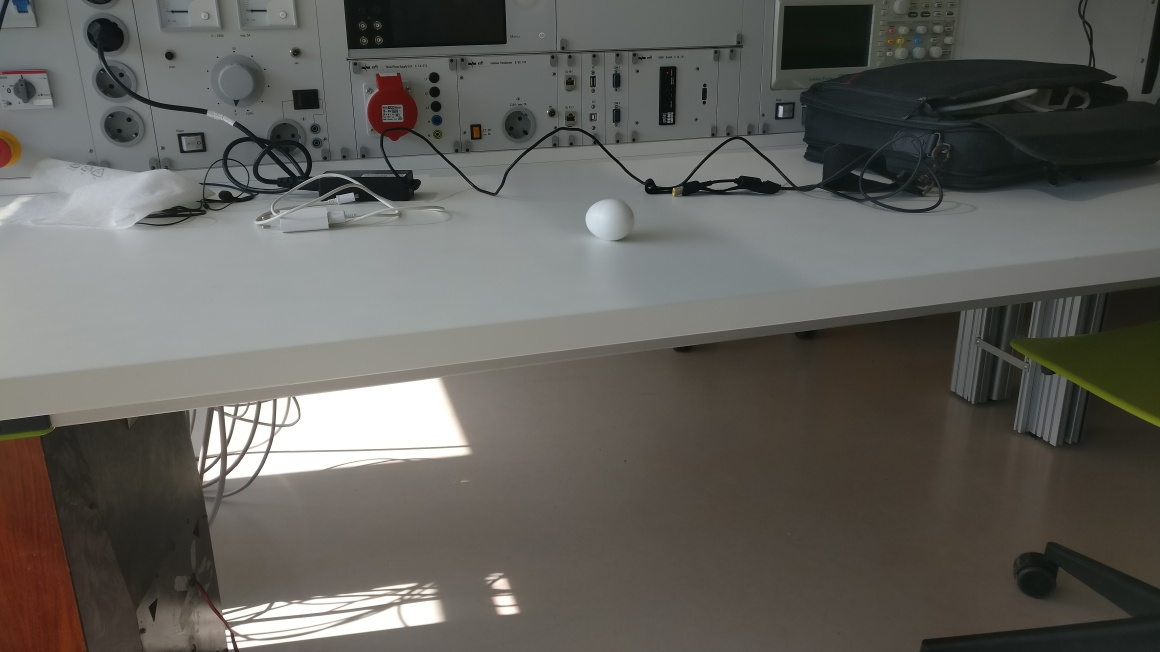egg: (584, 198, 636, 241)
